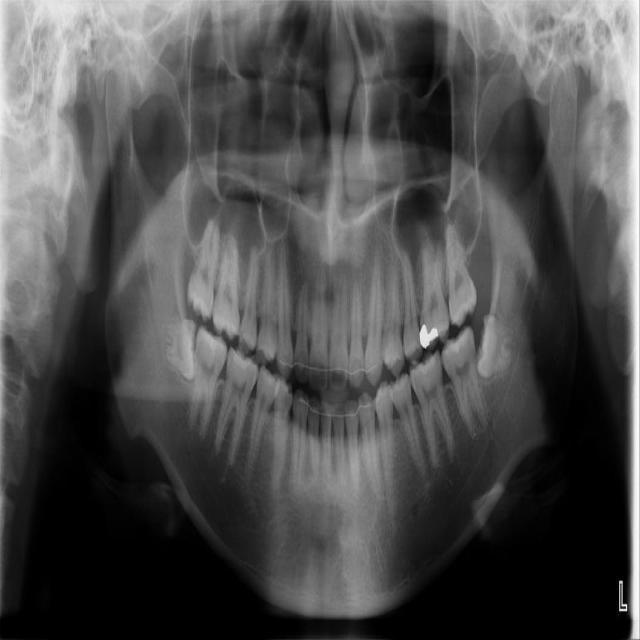Filling: (420, 322, 438, 347)
impacted tooth: (479, 314, 519, 375), (153, 321, 194, 380)
